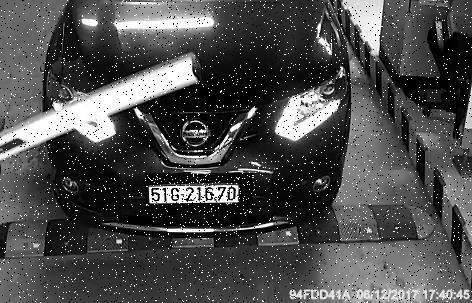License-plate: (147, 174, 256, 216)
